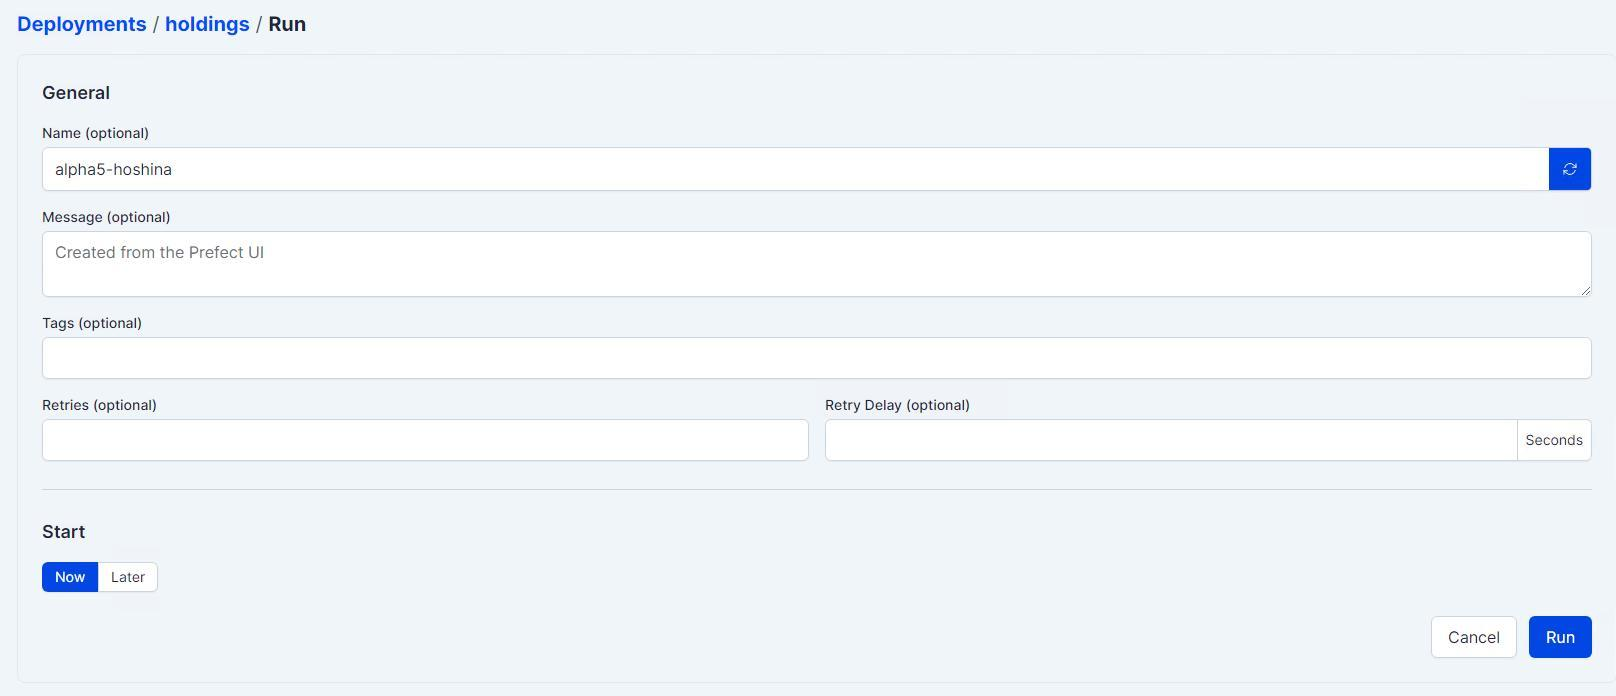button: (1430, 614, 1519, 662), (1530, 615, 1594, 661), (1551, 147, 1593, 191), (42, 563, 98, 593), (100, 565, 158, 593)
input: (42, 232, 1591, 299), (46, 337, 1591, 382), (42, 147, 1549, 190), (42, 420, 810, 463), (829, 421, 1521, 461)
label: (823, 396, 978, 420), (37, 394, 167, 418), (38, 208, 178, 230), (38, 123, 154, 144), (40, 314, 156, 335), (36, 519, 97, 545), (1523, 429, 1588, 452)
